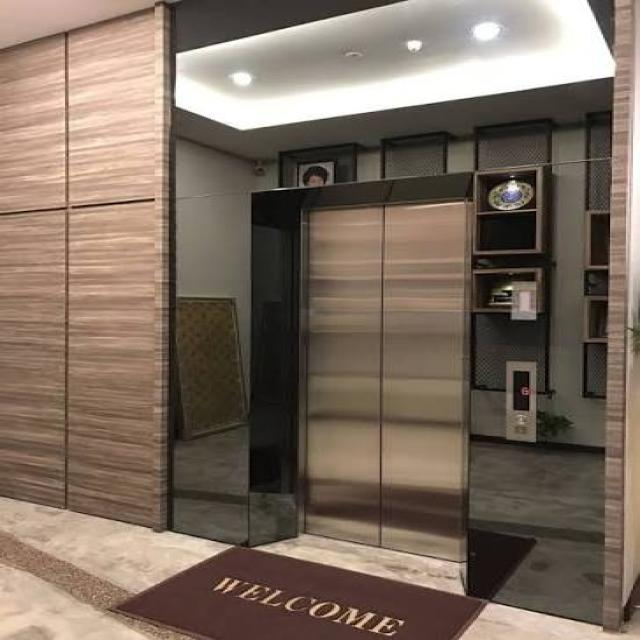elevator: (239, 167, 554, 611)
